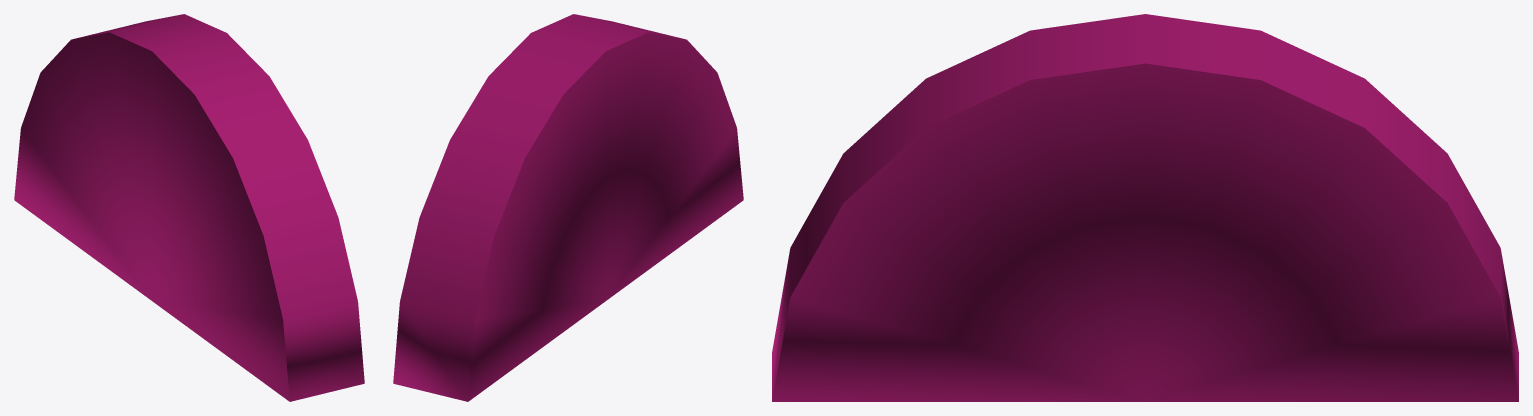
File: Grave_Circle.fbx
3 views of the same model, side by side, from view 1: azimuth 30°, elevation 25°; view 2: azimuth 150°, elevation 25°; view 3: azimuth 270°, elevation 25° (orthographic). The views are drawn at different scales.
Visible parts, largest first — view 1: Grave_Circle; view 2: Grave_Circle; view 3: Grave_Circle.
Part boxes in pixels (x1,y1,x2,y2): Grave_Circle: [14, 14, 364, 401]; Grave_Circle: [393, 14, 743, 401]; Grave_Circle: [772, 14, 1518, 401].
Bounding box in the file's own units: 1.06 × 3.38 × 6.75.
